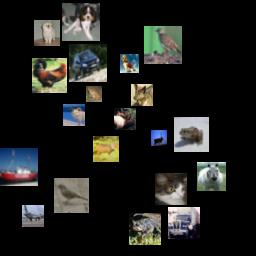airplane: (22, 205, 44, 227)
automobile: (69, 44, 107, 82)
bird: (144, 26, 182, 64), (32, 58, 67, 93), (54, 178, 89, 213)
cat: (155, 173, 187, 205)
deer: (93, 136, 119, 162), (63, 104, 85, 126), (114, 108, 136, 130), (151, 130, 167, 146)
dog: (62, 3, 100, 41), (34, 20, 60, 46), (131, 84, 153, 106), (120, 54, 139, 73)
frog: (174, 117, 209, 152), (129, 213, 161, 245), (86, 86, 102, 102)
ship: (0, 148, 38, 186)
truck: (168, 207, 200, 239)
